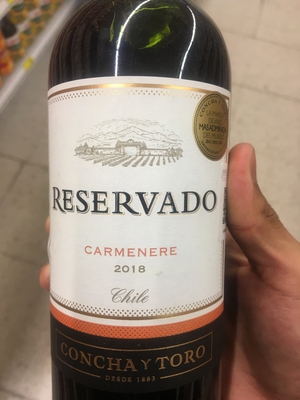reservado carmenere: (44, 5, 229, 400)
